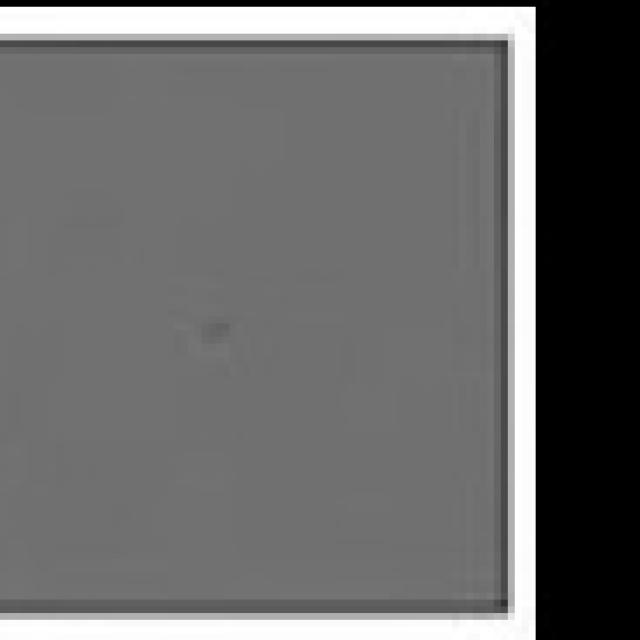Defect2: (176, 284, 264, 406)
